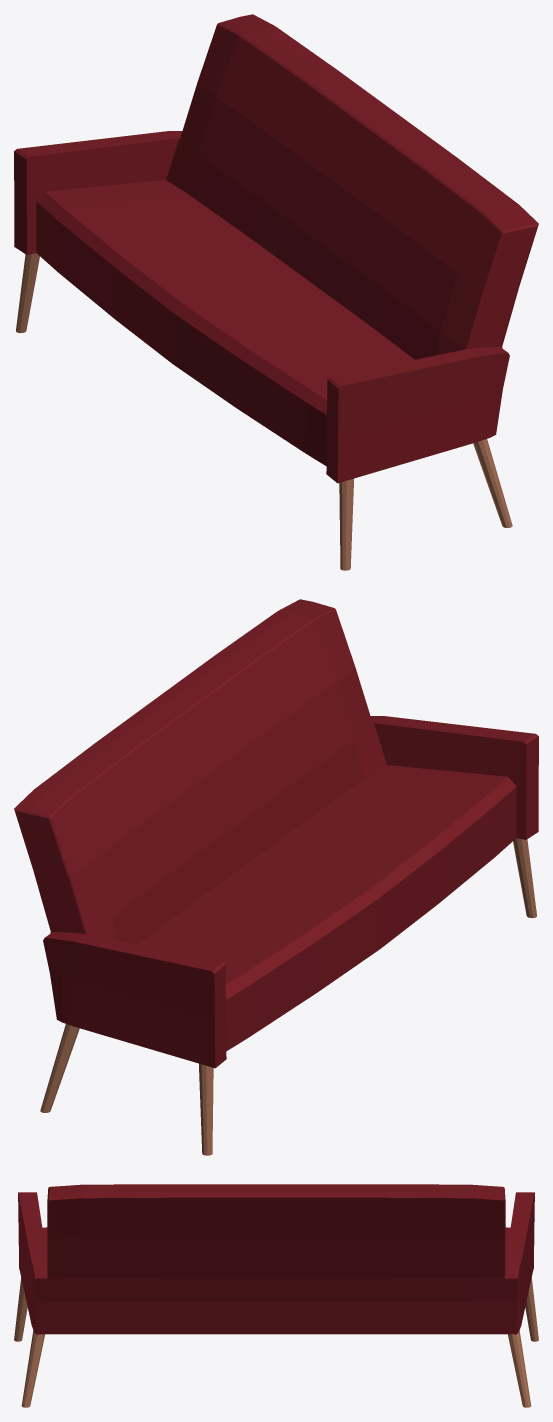
The model's file is диван гостинная.fbx.
3 views of the same model, one above another, from view 1: azimuth 30°, elevation 25°; view 2: azimuth 150°, elevation 25°; view 3: azimuth 270°, elevation 25° (orthographic). The views are drawn at different scales.
Parts seen in each view (by area): view 1: Cube.024; view 2: Cube.024; view 3: Cube.024.
Part boxes in pixels (<box>): Cube.024: <box>14,14,538,570</box>; Cube.024: <box>14,599,538,1155</box>; Cube.024: <box>14,1184,538,1407</box>.
Bounding box in the file's own units: 714 × 866 × 1812.
